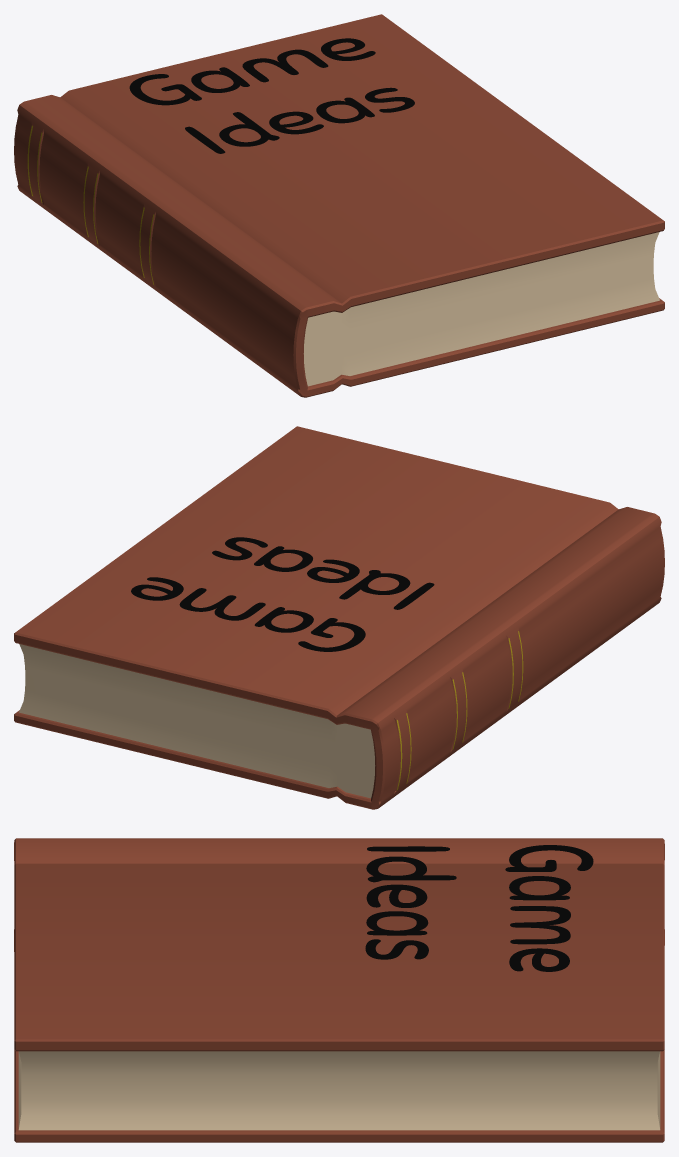
Rendered from uploads_files_2794075_book.fbx.
3 views of the same model, one above another, from view 1: azimuth 30°, elevation 25°; view 2: azimuth 150°, elevation 25°; view 3: azimuth 270°, elevation 25° (orthographic). The views are drawn at different scales.
Visible parts, largest first — view 1: Buch, Text; view 2: Buch, Text; view 3: Buch, Text.
Boxes of the visible parts, x1=… form: Buch: x1=14, y1=14, x2=664, y2=397; Text: x1=129, y1=38, x2=414, y2=153; Buch: x1=14, y1=426, x2=664, y2=809; Text: x1=131, y1=537, x2=434, y2=651; Buch: x1=14, y1=838, x2=664, y2=1142; Text: x1=365, y1=845, x2=593, y2=971.
Size of the model in its own units: 65.16 by 19.32 by 86.17.
